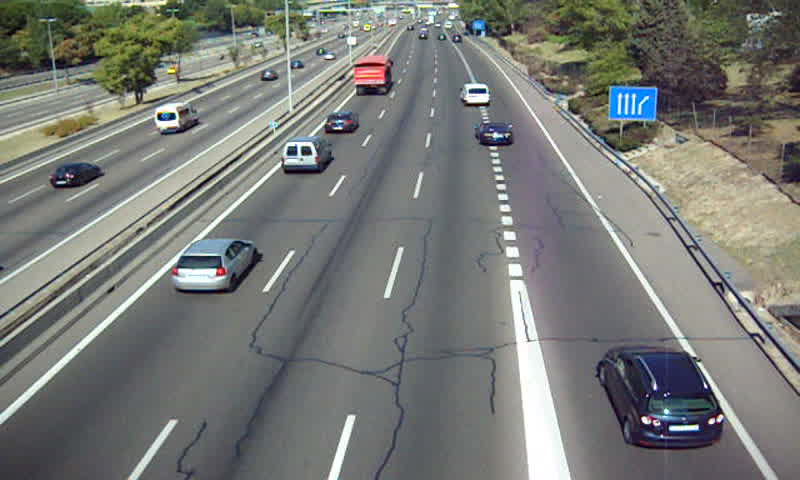car: (598, 347, 725, 450), (172, 238, 259, 291), (476, 122, 515, 147), (322, 111, 359, 134)
truck: (352, 57, 394, 94)
van: (282, 136, 330, 169), (460, 83, 491, 106)
